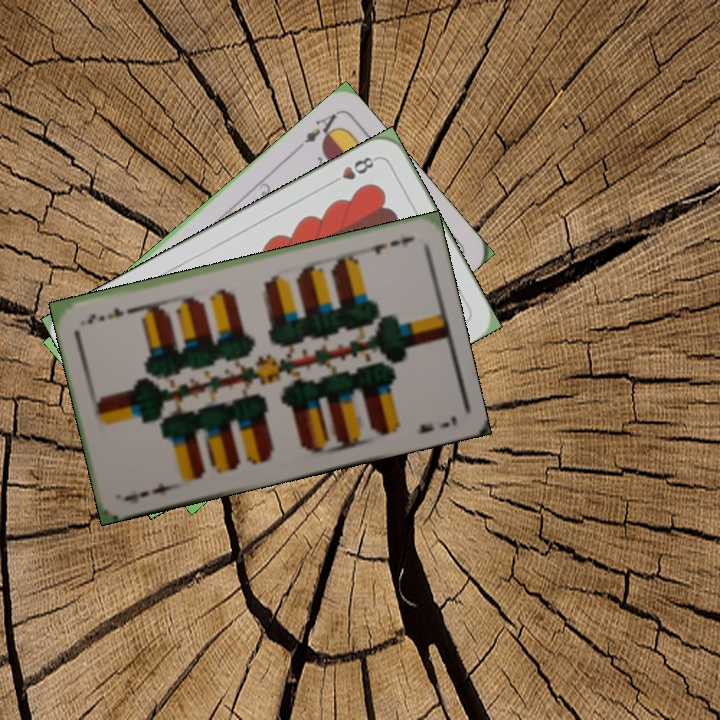E7: (120, 479, 179, 505), (360, 232, 418, 257)
EA: (292, 109, 342, 153)
H8: (326, 152, 380, 188)
